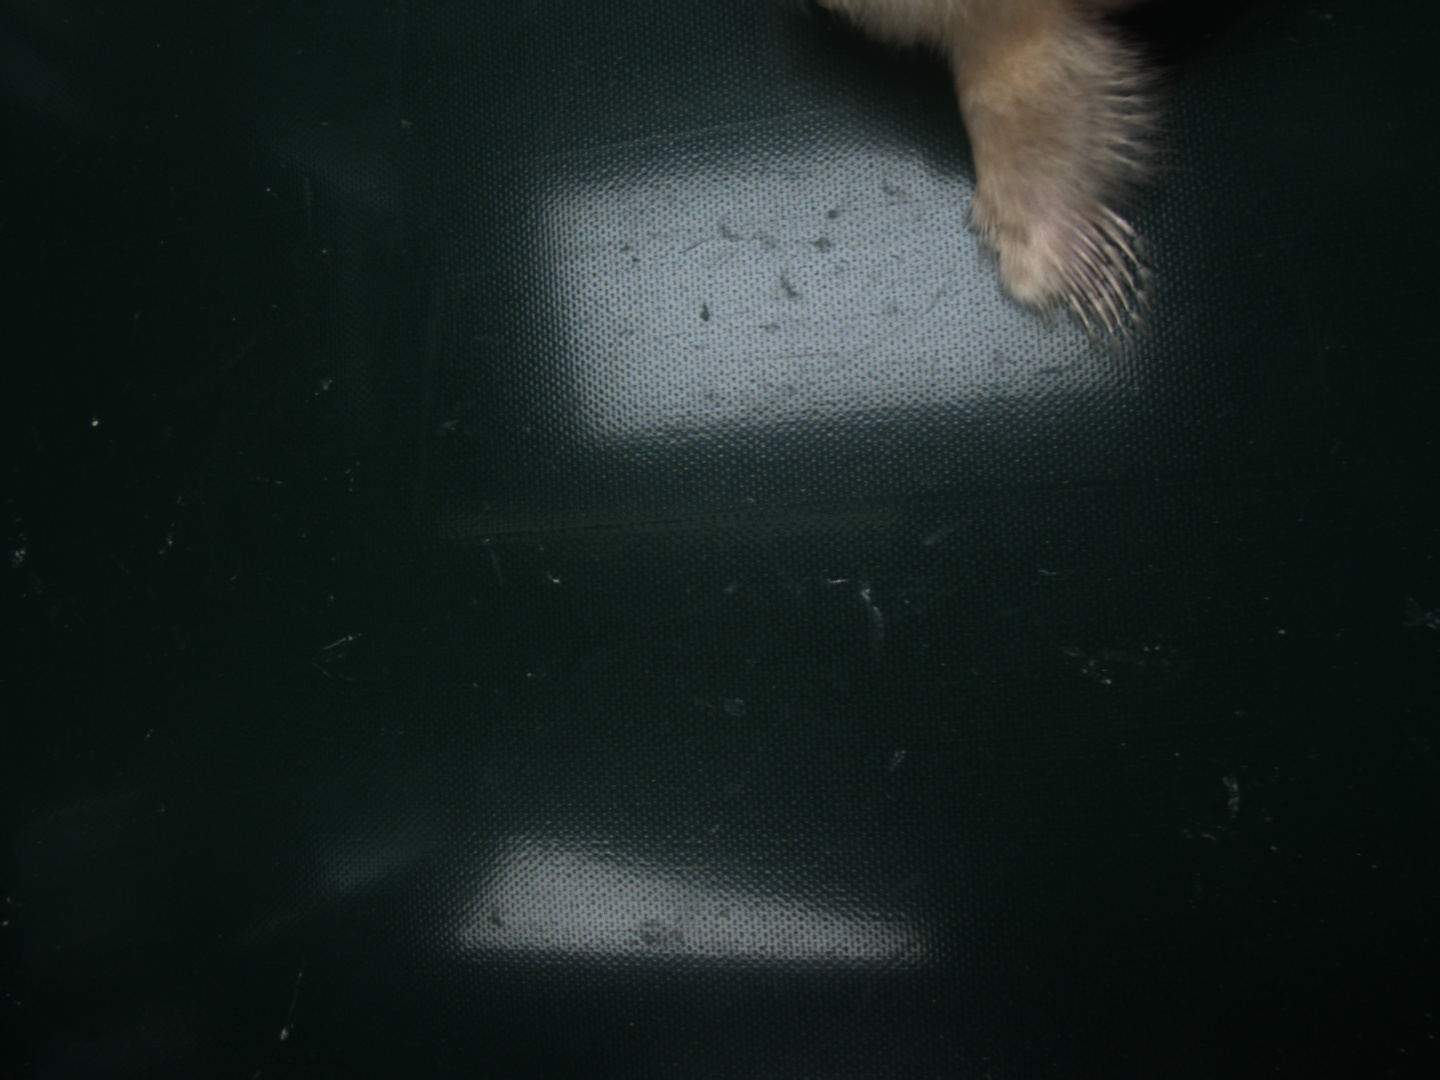female: (1059, 206, 1142, 331)
